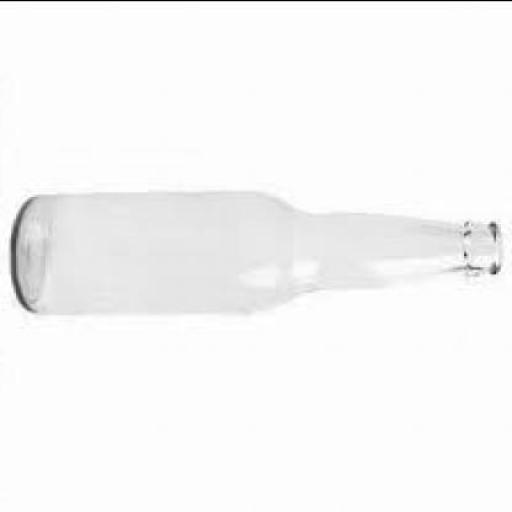glass: (14, 188, 504, 316)
